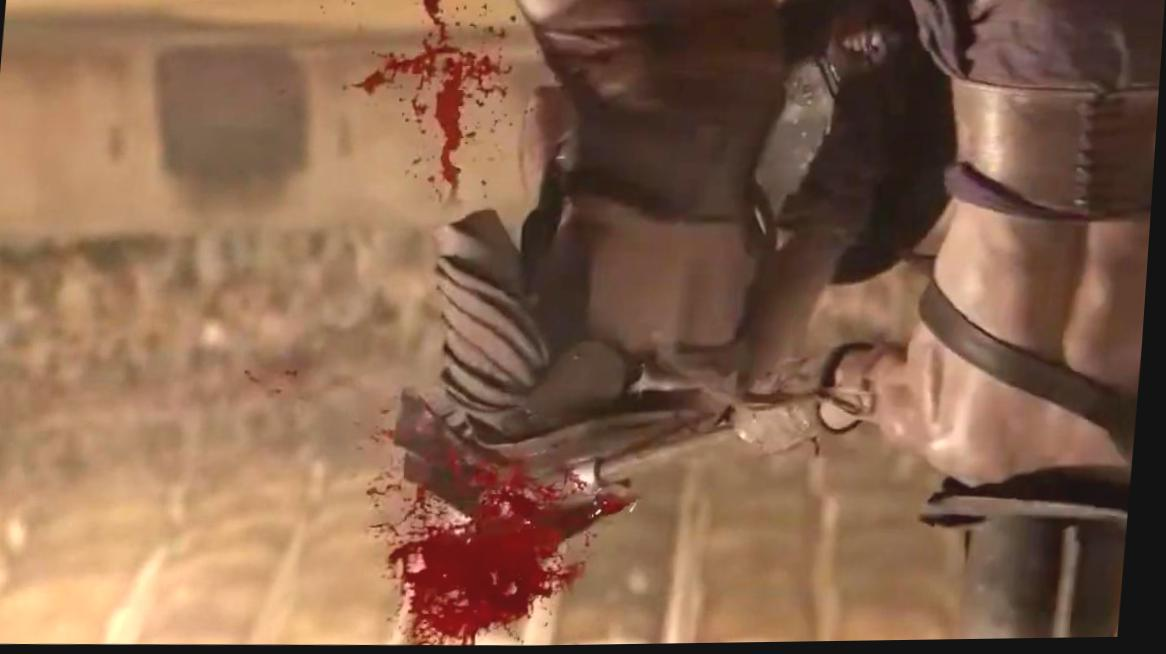Fire: (374, 476, 641, 647), (354, 0, 511, 208)
